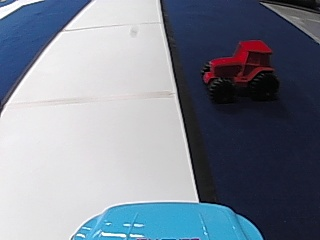tractor: (198, 37, 281, 104)
